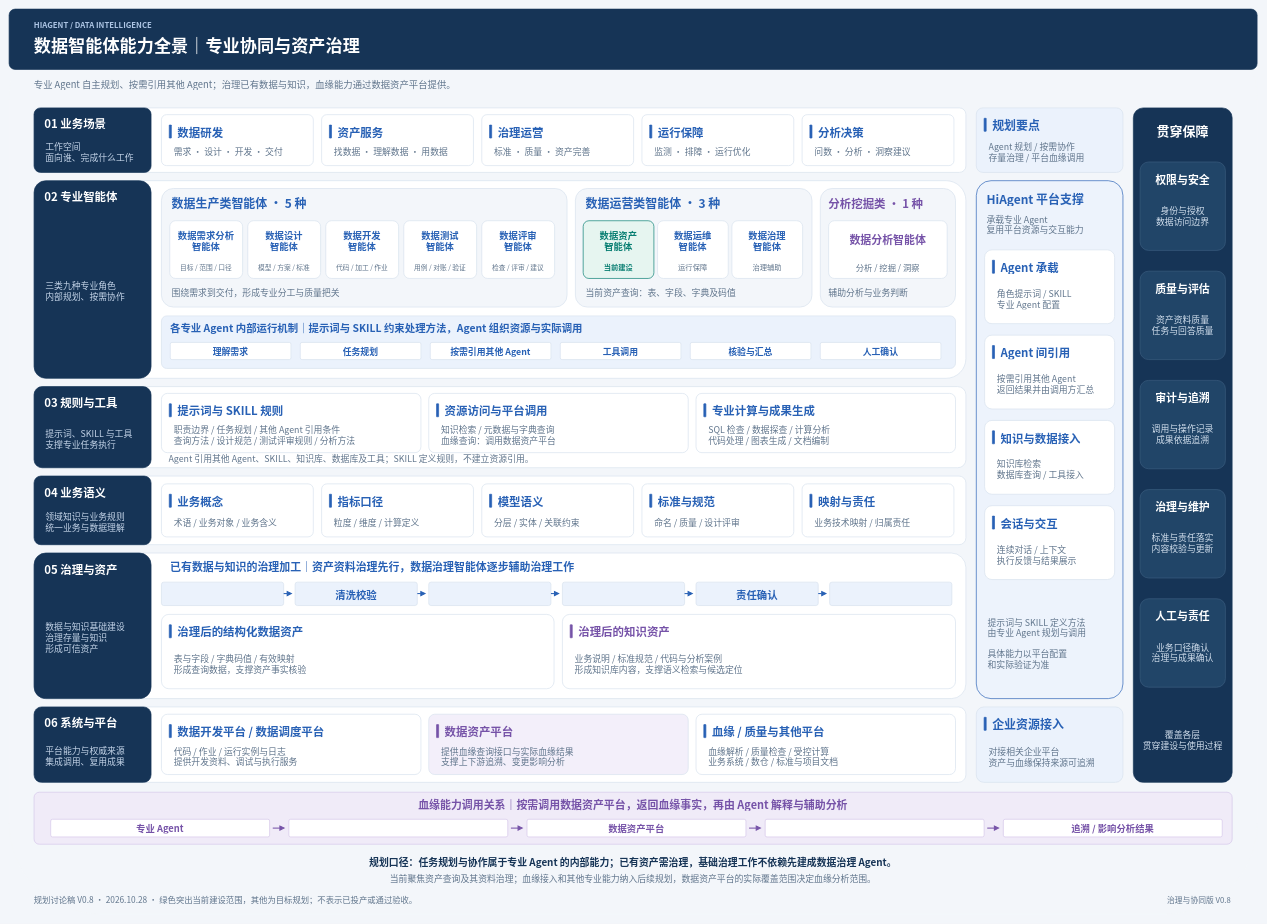
Some shapes in this 1267 by 924 pixel diagram are drawn without their labels. Each missing label, with the centre of its shape:
发布更新: [890,594]
标准映射: [489,594]
血缘事实与来源: [874,828]
血缘查询工具 / 平台接口: [398,828]
语义补全: [623,594]
资产收集: [222,594]
